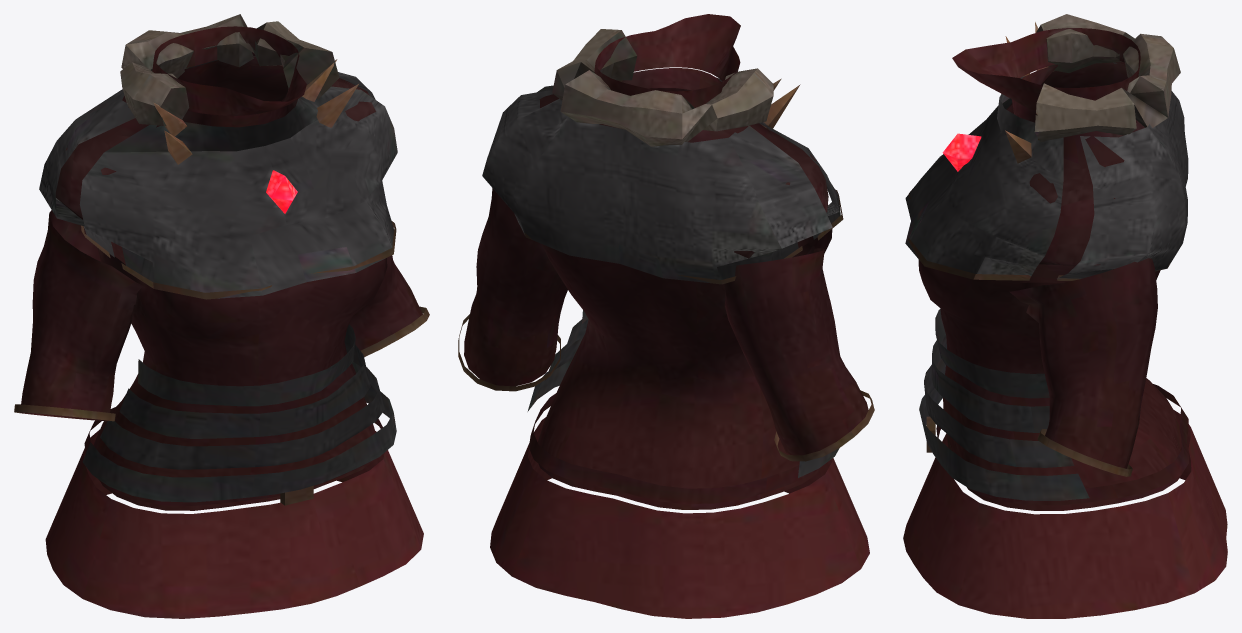
File: Peitoral_de_Placas_nivel75.glb
The picture shows the model from 3 angles, left to right: view 1: azimuth 30°, elevation 25°; view 2: azimuth 150°, elevation 25°; view 3: azimuth 270°, elevation 25°; orthographic projection.
Visible parts, largest first — view 1: peitoral_de_placas_nivel75; view 2: peitoral_de_placas_nivel75; view 3: peitoral_de_placas_nivel75.
Boxes of the visible parts, bbox=[...] form: peitoral_de_placas_nivel75: bbox=[14, 14, 429, 618]; peitoral_de_placas_nivel75: bbox=[458, 14, 874, 618]; peitoral_de_placas_nivel75: bbox=[903, 14, 1227, 618].
Size of the model in its own units: 0.6157 by 0.7099 by 0.4298.
1 material, 1 textured.
